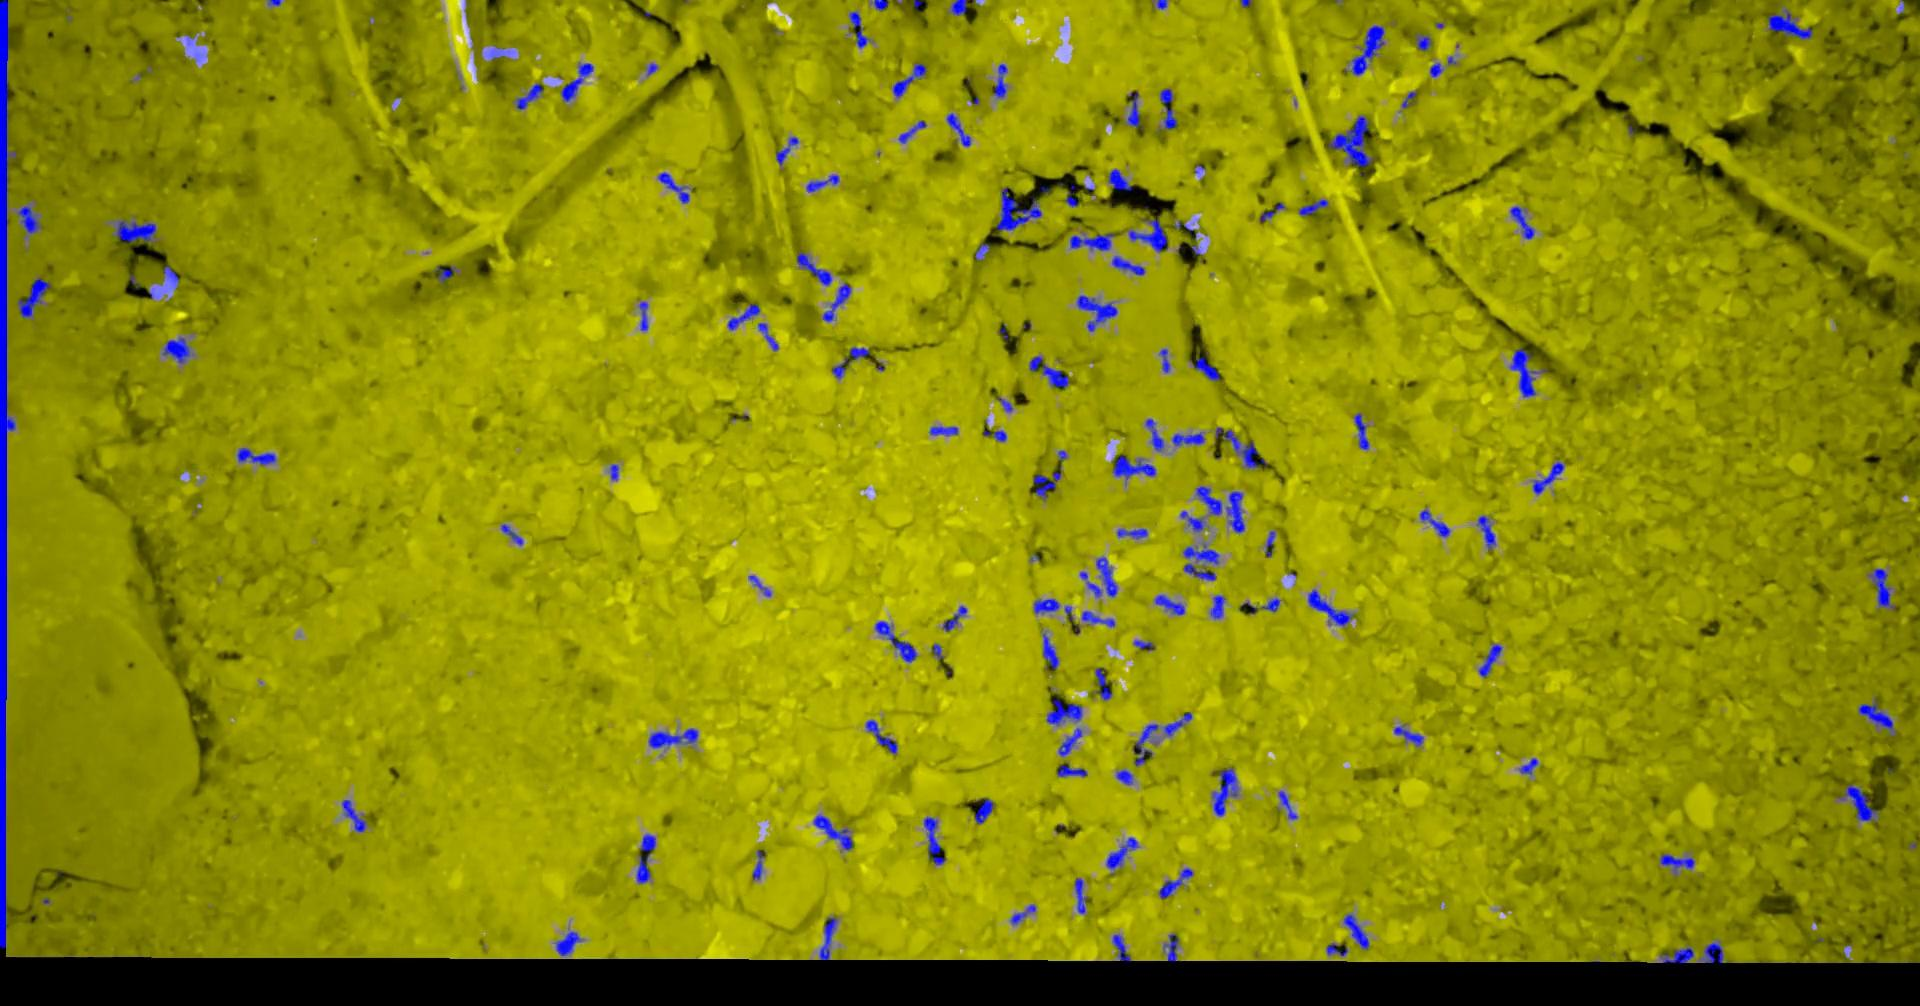ant: (1327, 116, 1373, 166), (1215, 427, 1265, 467), (996, 187, 1041, 230), (874, 621, 916, 662), (1307, 589, 1354, 625), (1351, 25, 1383, 75), (1076, 295, 1117, 332), (1837, 782, 1876, 821), (1768, 8, 1812, 39), (813, 815, 852, 850), (17, 277, 50, 318), (1858, 697, 1895, 733), (560, 62, 593, 102), (1128, 218, 1167, 251), (1510, 348, 1537, 396), (1029, 356, 1068, 387), (1211, 767, 1237, 815), (830, 347, 869, 379), (891, 62, 926, 97), (1131, 723, 1158, 766), (796, 251, 830, 285), (822, 282, 850, 321), (865, 719, 897, 753), (657, 171, 690, 203), (1531, 461, 1563, 494), (1158, 868, 1192, 898), (1112, 455, 1156, 479), (923, 815, 945, 864), (1869, 568, 1895, 608), (1032, 465, 1060, 499), (116, 218, 155, 243), (648, 728, 697, 747), (1106, 837, 1137, 868), (636, 835, 655, 883), (1046, 699, 1081, 725), (1095, 558, 1117, 596), (1343, 913, 1368, 949), (1418, 509, 1449, 537), (946, 112, 970, 146), (728, 304, 759, 329), (1225, 492, 1244, 533), (1510, 206, 1534, 239), (1069, 232, 1114, 250), (1478, 644, 1501, 677), (1159, 88, 1177, 130), (1195, 486, 1222, 514), (342, 799, 364, 831), (1183, 544, 1219, 564), (819, 917, 836, 960), (516, 83, 542, 109), (163, 337, 189, 363), (1190, 356, 1219, 380), (850, 11, 869, 47), (1658, 854, 1694, 873), (898, 119, 926, 144), (1111, 255, 1144, 276), (775, 136, 797, 165), (1058, 727, 1081, 756), (1393, 724, 1423, 746), (1476, 514, 1495, 549), (17, 206, 41, 232), (942, 605, 966, 631), (554, 931, 580, 955), (1163, 713, 1191, 735), (237, 447, 276, 464), (1144, 418, 1163, 450), (757, 323, 778, 351), (1126, 91, 1142, 130), (1183, 563, 1215, 580), (1043, 633, 1058, 669), (1277, 790, 1297, 819), (806, 174, 839, 191), (1081, 610, 1114, 626), (1660, 946, 1693, 963), (1156, 594, 1183, 614), (1111, 934, 1130, 962), (1702, 942, 1730, 962), (1095, 667, 1111, 699), (1079, 572, 1101, 596), (974, 796, 993, 823), (992, 64, 1007, 97), (1354, 413, 1368, 448), (1109, 169, 1131, 191), (1178, 511, 1203, 531), (1258, 202, 1284, 221), (1010, 904, 1035, 923), (500, 523, 522, 545), (1171, 431, 1204, 445), (1074, 878, 1087, 913), (1298, 199, 1327, 215), (748, 575, 770, 596), (1163, 934, 1178, 962), (1032, 598, 1059, 614), (752, 848, 764, 879), (1057, 763, 1086, 776), (1210, 594, 1224, 619), (434, 265, 455, 282), (1116, 528, 1147, 539), (163, 265, 178, 285), (1517, 758, 1537, 774), (1326, 942, 1347, 955), (1415, 33, 1431, 50), (974, 243, 989, 260), (983, 429, 1006, 441), (639, 301, 648, 330), (928, 426, 957, 434), (1263, 531, 1274, 556), (950, 0, 966, 15), (1065, 184, 1077, 206), (1159, 348, 1170, 372), (1261, 598, 1280, 611), (1401, 91, 1416, 107), (1116, 768, 1131, 784), (1133, 640, 1153, 650), (1429, 62, 1443, 76), (932, 643, 943, 659), (870, 0, 888, 10), (610, 464, 618, 480)
